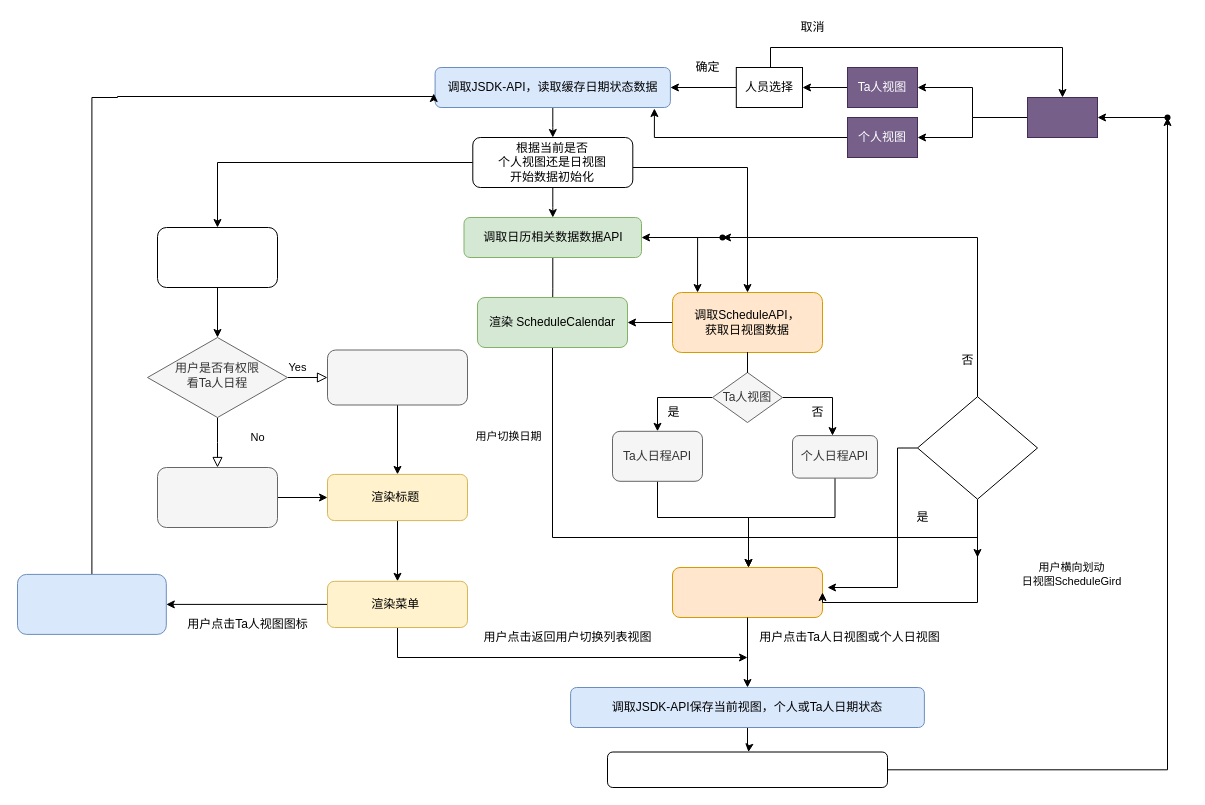
The diagram is 1205 pixels wide and 805 high, and some of its shapes have lost their labels. The shapes that lost their labels are listed below. From the top down, each one's box as (x1, y1, x2, y2) in pixels, then its label:
(1026, 96, 1098, 138): 列表视图
(156, 226, 278, 288): 调取菜单API
(326, 349, 468, 405): 没有查看Ta人小图标按钮
(916, 396, 1038, 499): 判断是否能 命中缓存数据
(156, 466, 278, 528): 带有查看Ta人小图标按钮
(16, 573, 166, 634): 调取JSDK-API保存当前视图，个人日期状态
(672, 566, 822, 618): 渲染日视图ScheduleGrid
(606, 751, 888, 788): 关闭当前webview，回到列表视图webview
